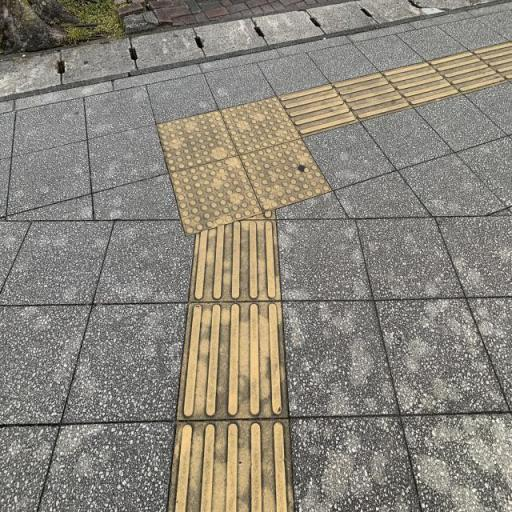dot: (169, 155, 264, 237), (238, 138, 332, 212), (156, 110, 239, 175), (219, 97, 302, 155)
line: (176, 302, 286, 421), (167, 420, 295, 511), (188, 219, 282, 303), (277, 84, 360, 137), (332, 72, 414, 122), (381, 62, 465, 107), (428, 51, 508, 94)
